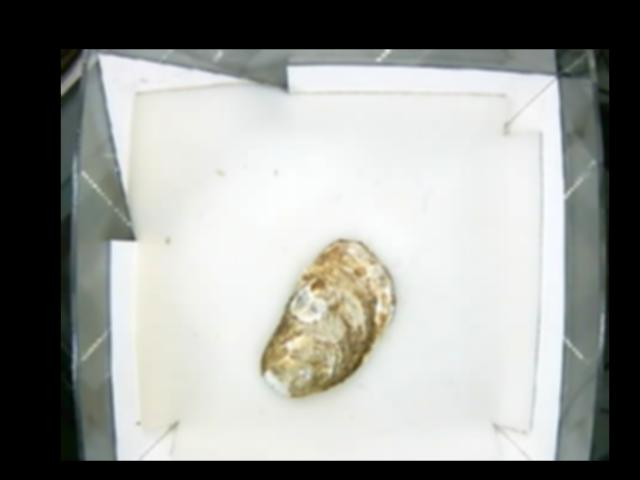Shell: (257, 237, 393, 394)
